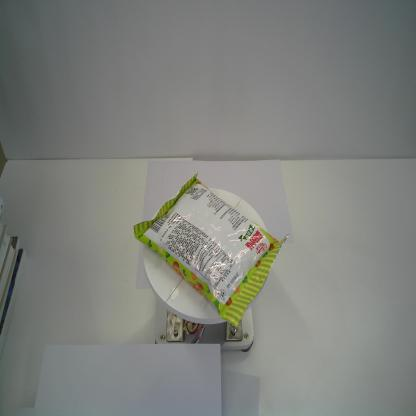Puffed Food: (132, 172, 292, 328)
